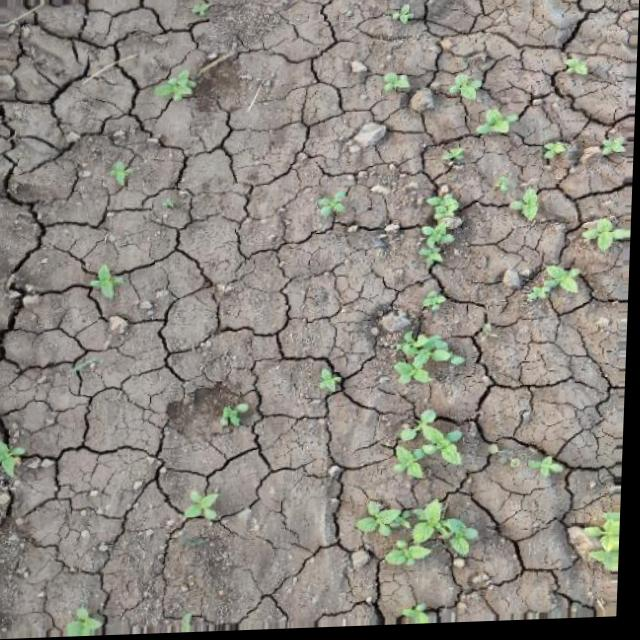crop: (373, 61, 520, 145), (393, 417, 472, 482), (518, 251, 586, 316), (418, 189, 467, 274), (400, 337, 467, 388), (0, 417, 37, 497), (88, 257, 134, 316), (173, 488, 232, 531), (152, 68, 199, 103), (504, 189, 543, 230), (313, 192, 359, 226)
